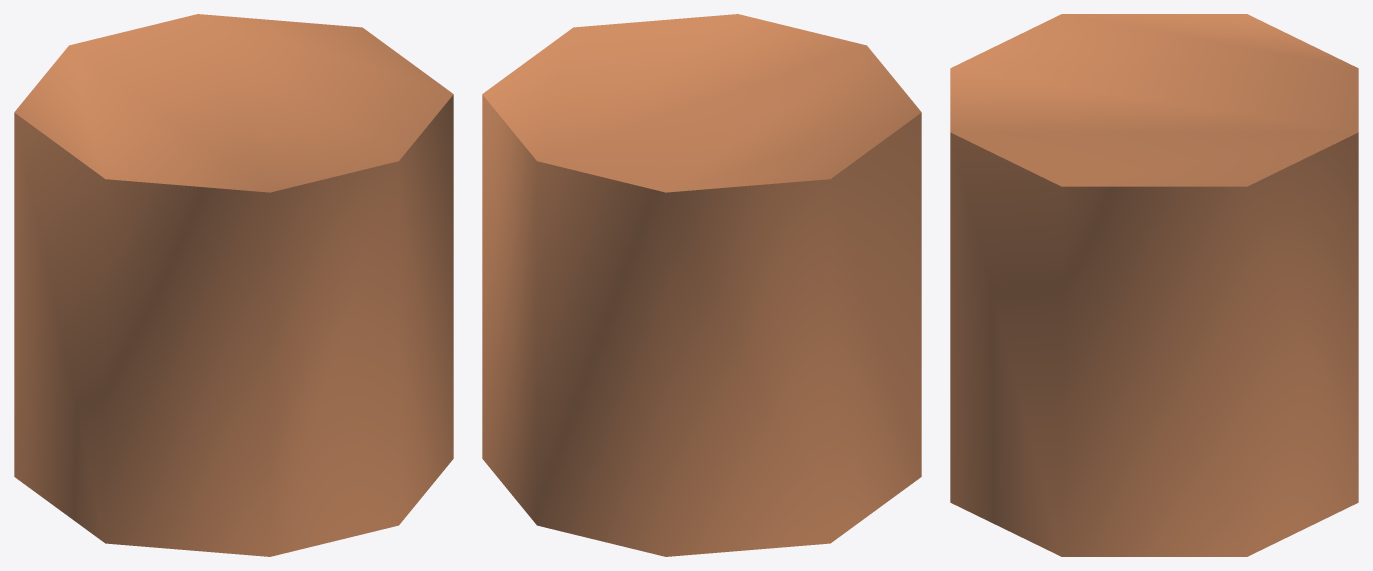
File: mini_tile_middle.glb
3 views of the same model, side by side, from view 1: azimuth 30°, elevation 25°; view 2: azimuth 150°, elevation 25°; view 3: azimuth 270°, elevation 25° (orthographic).
Parts seen in each view (by area): view 1: mini_tile_middle; view 2: mini_tile_middle; view 3: mini_tile_middle.
Boxes of the visible parts, <box> form: mini_tile_middle: <box>14,14,453,556</box>; mini_tile_middle: <box>482,14,921,556</box>; mini_tile_middle: <box>950,14,1358,556</box>.
Size of the model in its own units: 0.5 by 0.4998 by 0.4998.
